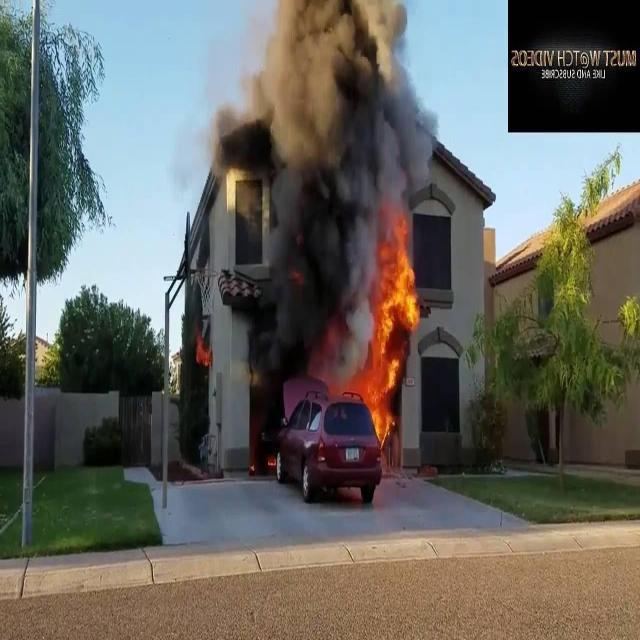Fire: (331, 208, 421, 452), (196, 326, 212, 364), (266, 454, 276, 467)
